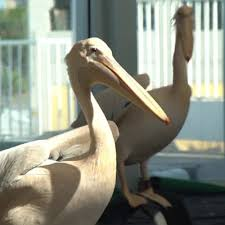pelican: (3, 37, 169, 222), (65, 6, 194, 206)
